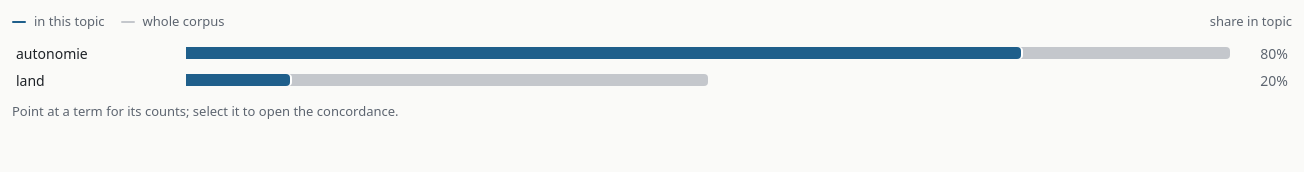
it: TopicTermChart › links each term to its concordance and reads out counts on focus
Focus the link with aria-label "land:" at (652, 80), box [12, 66, 1292, 94]
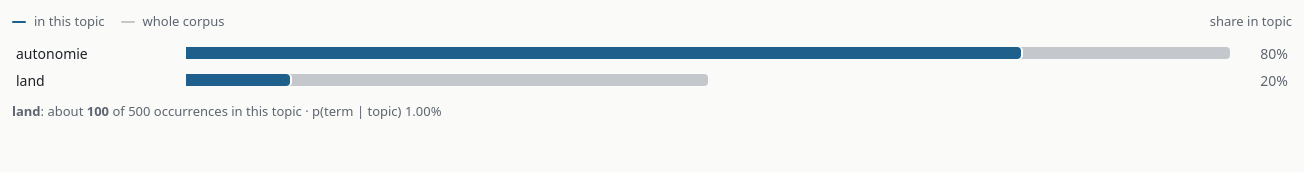
Now the text "occurrences in this topic ·" shows "100", box [87, 102, 109, 120]
